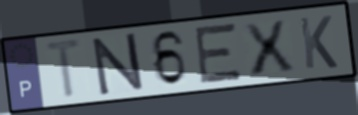6: (150, 29, 188, 89)
E: (193, 21, 245, 87)
K: (297, 13, 341, 71)
N: (89, 31, 147, 98)
T: (42, 36, 88, 102)
X: (239, 18, 299, 79)
